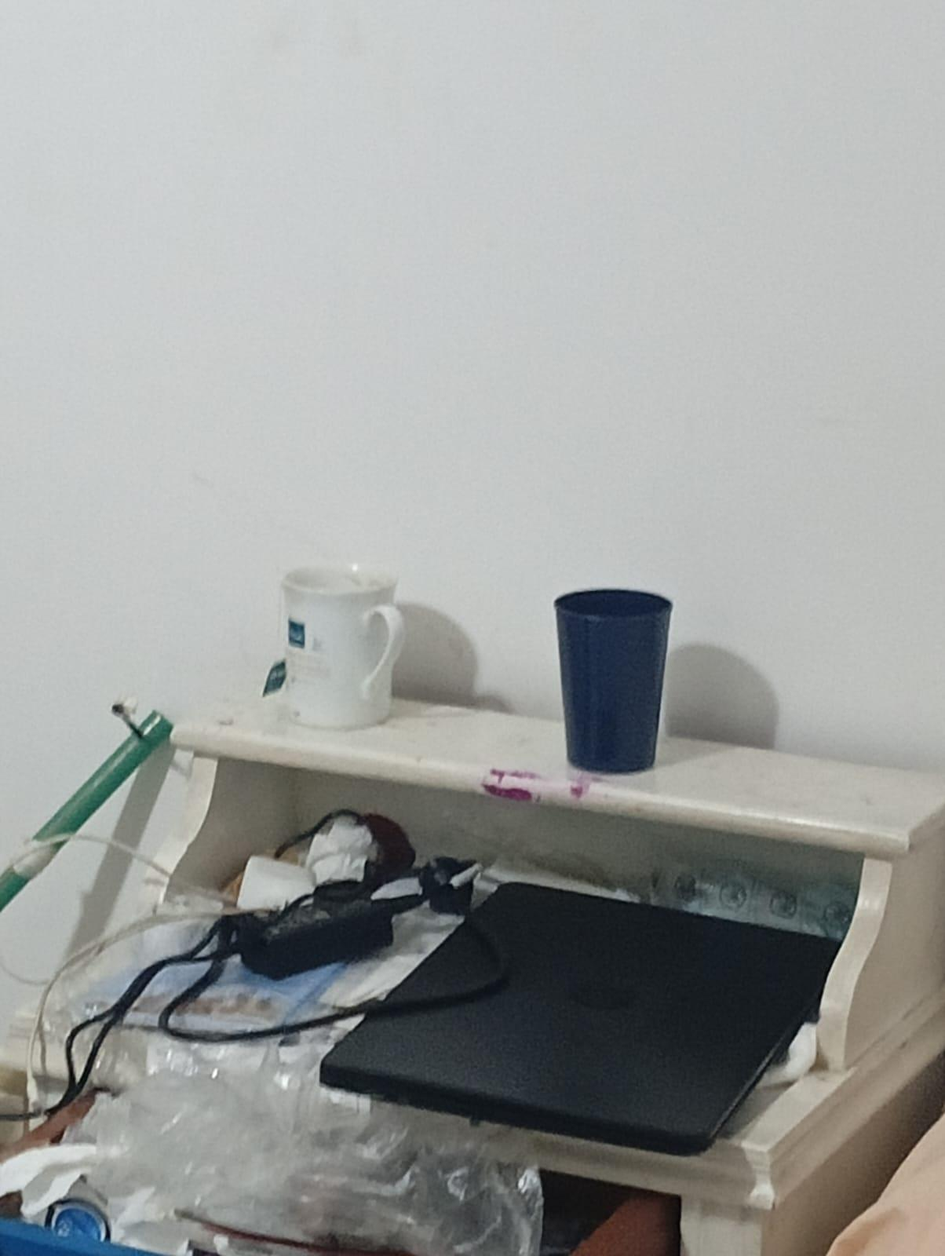cup: (555, 589, 671, 772), (282, 564, 403, 728)
